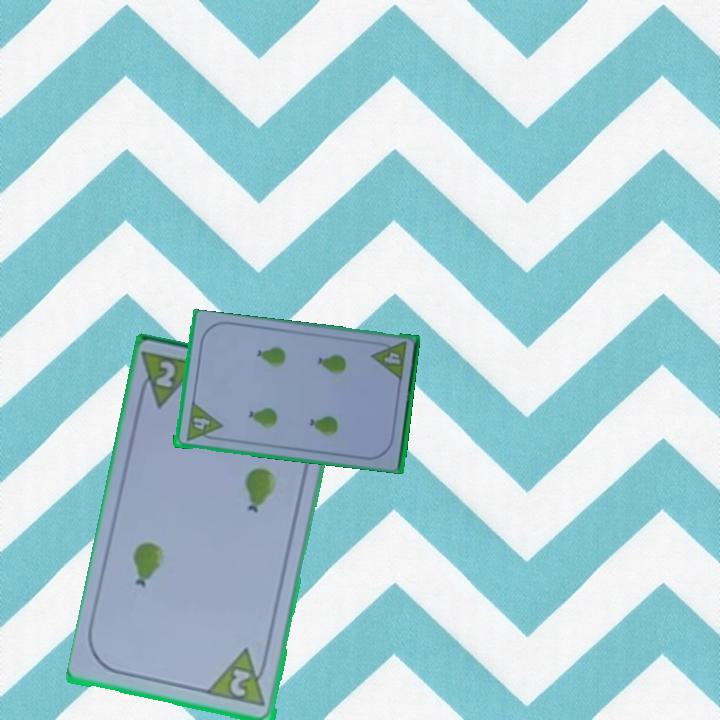2p: (226, 666, 254, 700), (152, 357, 179, 392)
4p: (182, 400, 224, 444), (368, 338, 409, 383)
